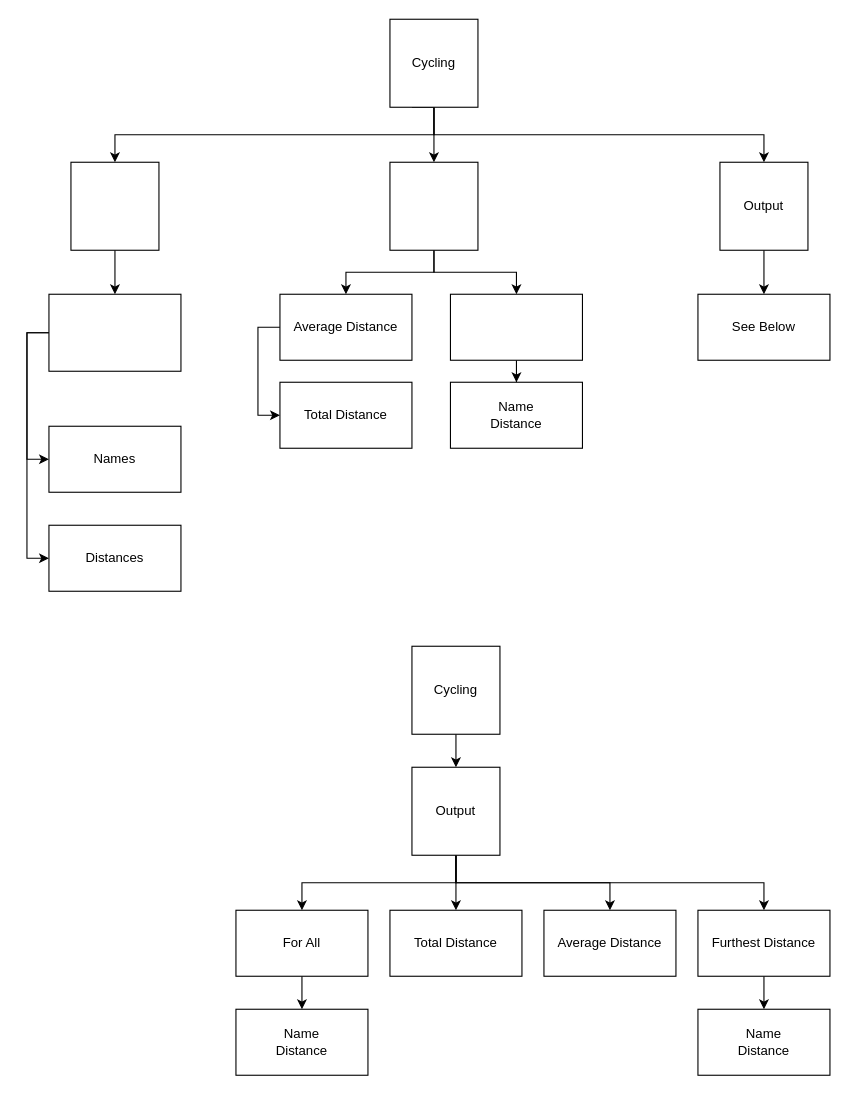
This 849x1095 diagram has some shape labels left out. The shapes that lost their labels are listed below. From the top down, each one's box as (x1, y1, x2, y2) in pixels, then its label:
(70, 161, 159, 250): Input
(389, 161, 478, 250): Compute
(48, 293, 181, 371): Read data from CSV file
(449, 293, 582, 360): Farthest Distance
